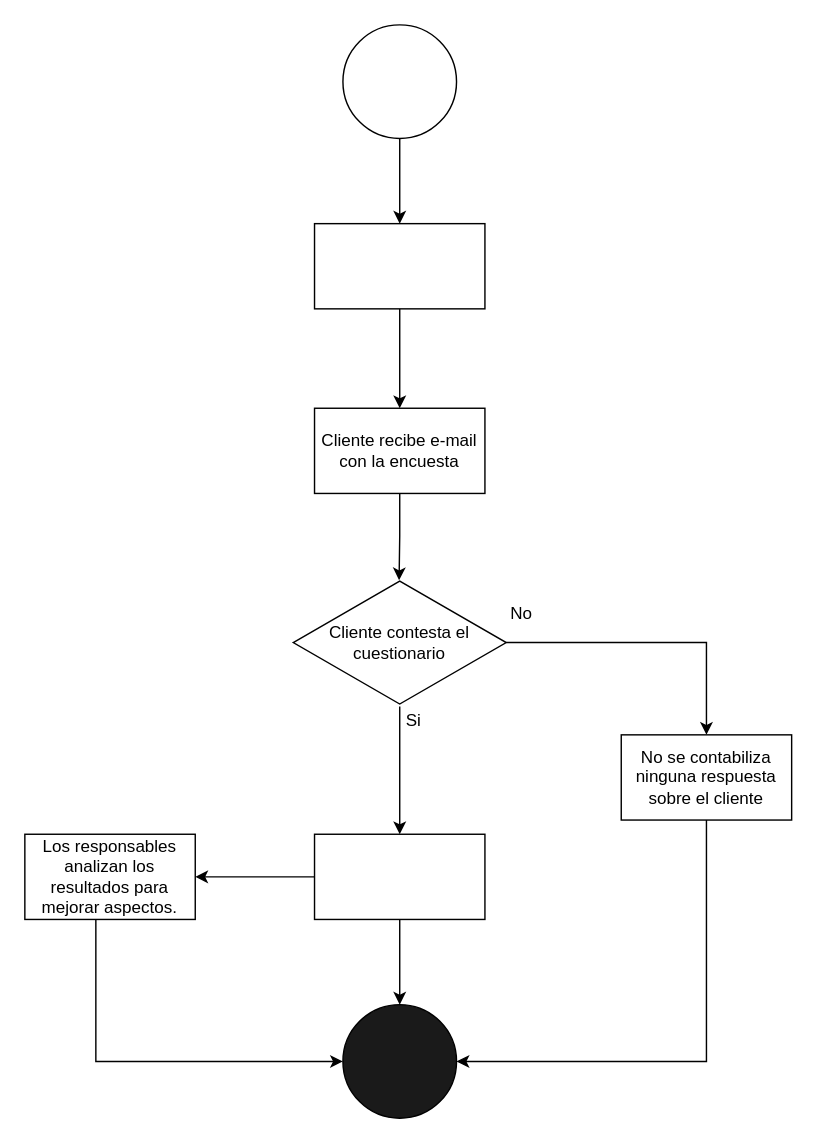
Image size: 817x1143. Some labels were removed from this diagram. The shapes that lost their labels are listed below. From the top down, each one's box as (x1, y1, x2, y2) in pixels, then its label:
(313, 222, 485, 309): Atención al cliente envia encuesta NPS
(313, 833, 485, 919): Se envian las respuestas a los responsables via e-mail
